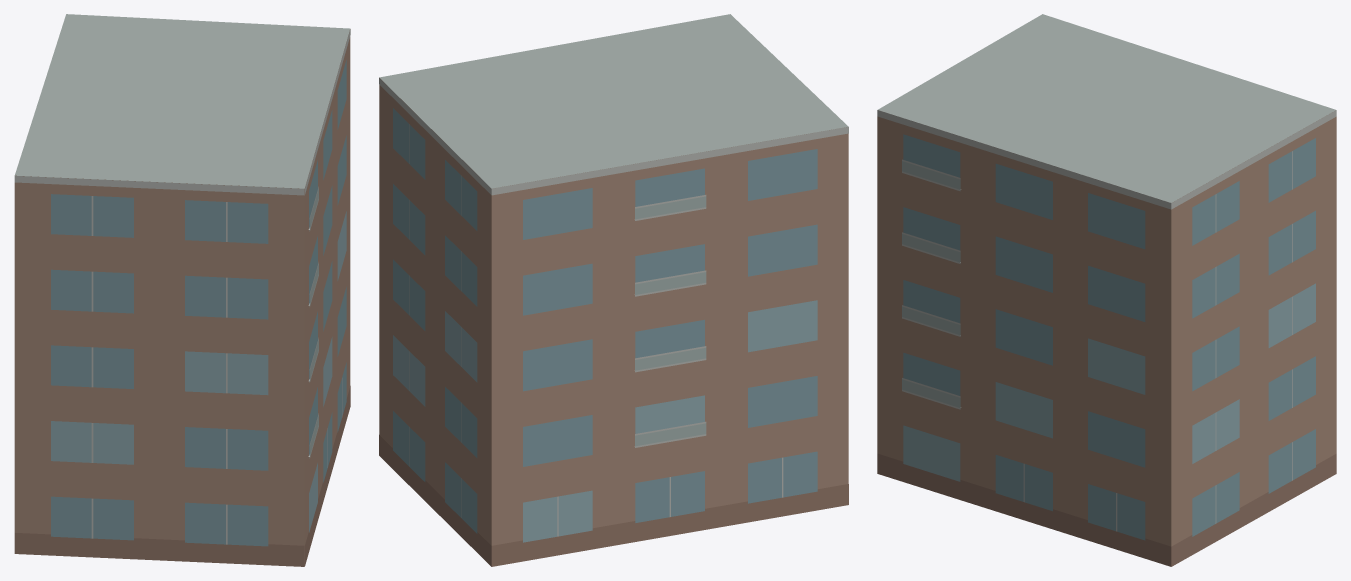
The model's file is survey-upis-32865177.glb.
3 renders of one model, left to right at view 1: azimuth 30°, elevation 25°; view 2: azimuth 150°, elevation 25°; view 3: azimuth 270°, elevation 25°, orthographic. The views are drawn at different scales.
Visible parts, largest first — view 1: survey-upis-32865177.tmp; view 2: survey-upis-32865177.tmp; view 3: survey-upis-32865177.tmp.
Boxes of the visible parts, left/top/right/bottom form: survey-upis-32865177.tmp: left=14, top=14, right=350, bottom=566; survey-upis-32865177.tmp: left=379, top=14, right=848, bottom=566; survey-upis-32865177.tmp: left=877, top=14, right=1336, bottom=566.
Size of the model in its own units: 15.11 by 13.55 by 15.5.
